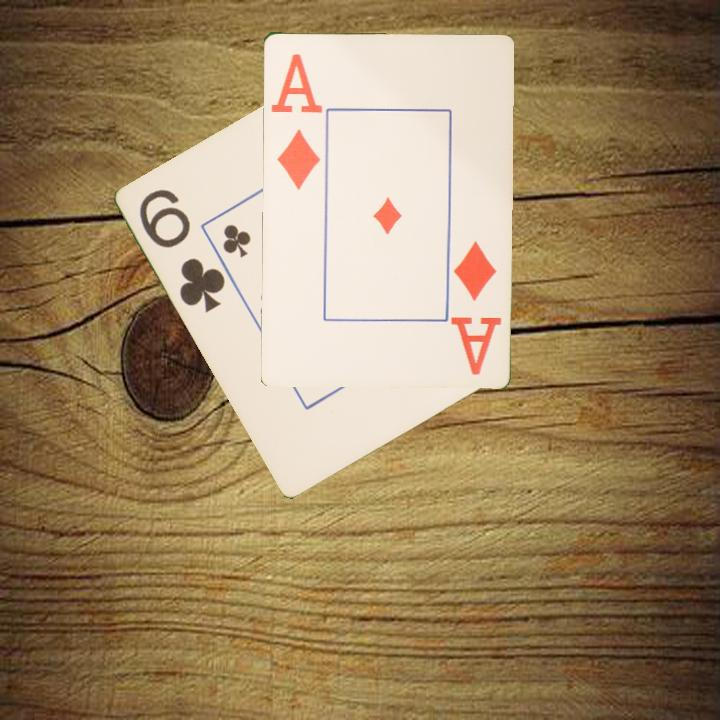6c: (136, 185, 229, 316)
Ad: (267, 50, 324, 193), (449, 236, 504, 377)
